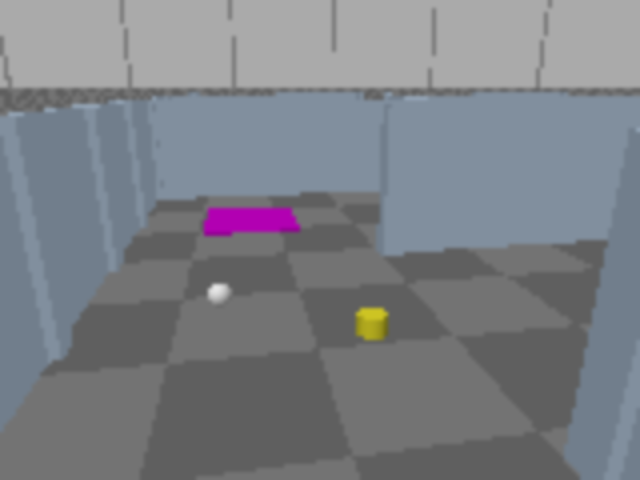goal_zone: (203, 207, 300, 235)
puck: (202, 277, 238, 313), (359, 307, 385, 338)
